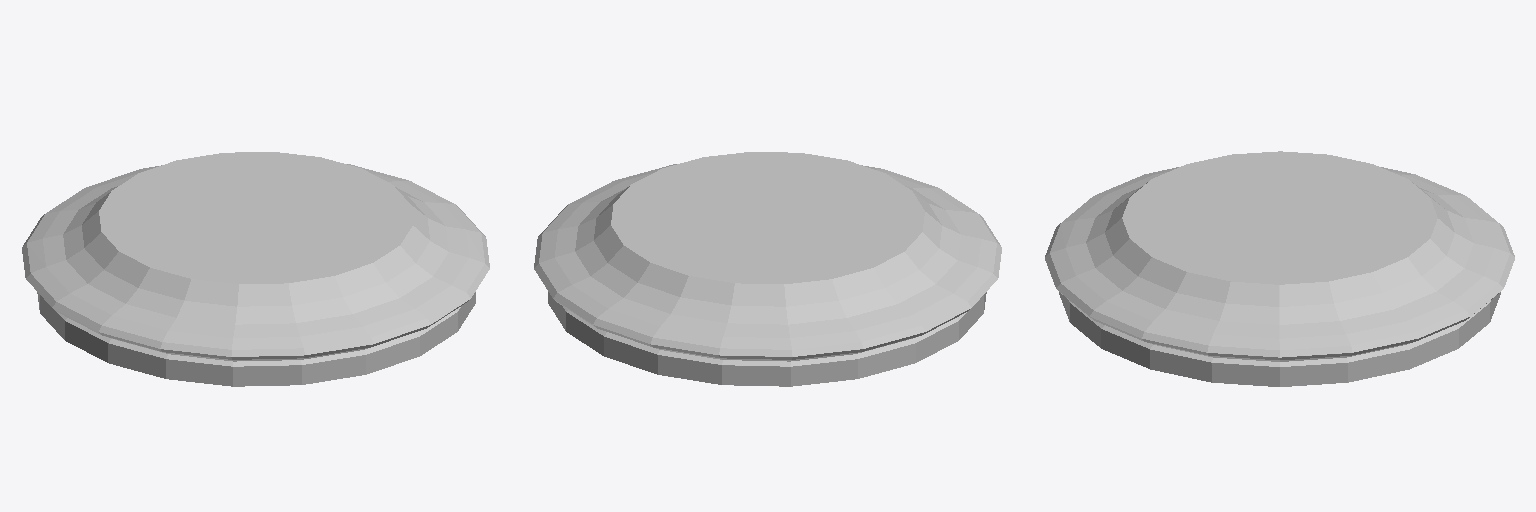
The model's file is Pedistal.obj.
3 renders of one model, left to right at view 1: azimuth 30°, elevation 25°; view 2: azimuth 150°, elevation 25°; view 3: azimuth 270°, elevation 25°, orthographic.
Visible parts, largest first — view 1: Pedistal_Knight.002; view 2: Pedistal_Knight.002; view 3: Pedistal_Knight.002.
Boxes of the visible parts, <box> form: Pedistal_Knight.002: <box>22,152,489,386</box>; Pedistal_Knight.002: <box>534,152,1001,386</box>; Pedistal_Knight.002: <box>1045,151,1514,386</box>.
Bounding box in the file's own units: 2.13 × 0.3788 × 2.13.